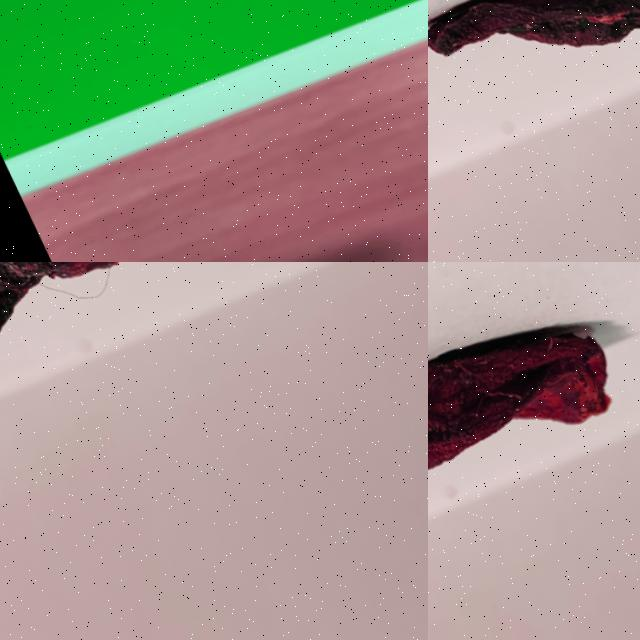Flat_cocoabeans: (428, 262, 639, 523), (0, 262, 359, 403), (428, 0, 639, 170)
